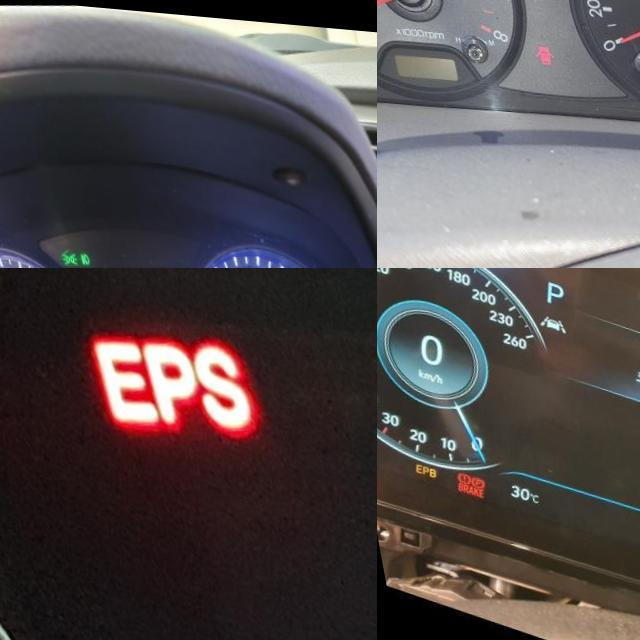FrontFogLight: (67, 246, 80, 260)
LaneCenteringOff: (524, 306, 557, 329)
SideLamp: (49, 245, 69, 263)
